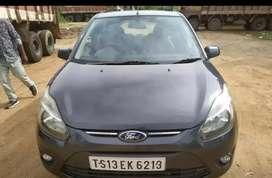TS13EK6213: (88, 155, 164, 169)
